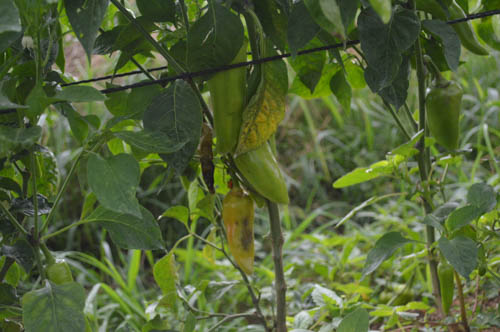ChiliPepper: (234, 133, 292, 206), (207, 70, 246, 153), (426, 83, 465, 150), (436, 264, 459, 314)
